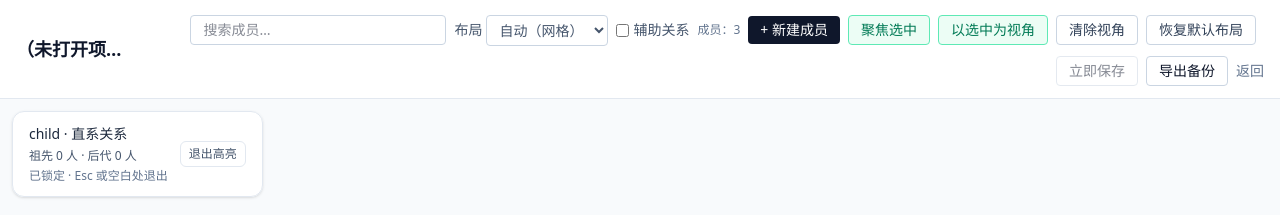
it: TreeView row order integration › restores the algorithm layout and the default canvas view without changing semantic state
Click the button with test id "restore-default-layout": (1201, 30) [1146,15,1256,45]
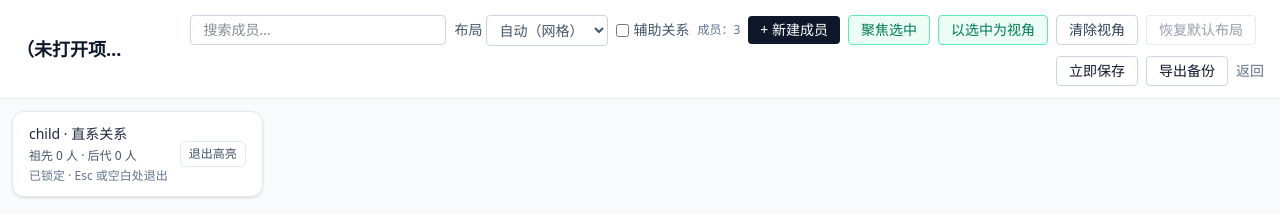
Now the button with test id "restore-default-layout" is disabled, box [1146,15,1256,45]
